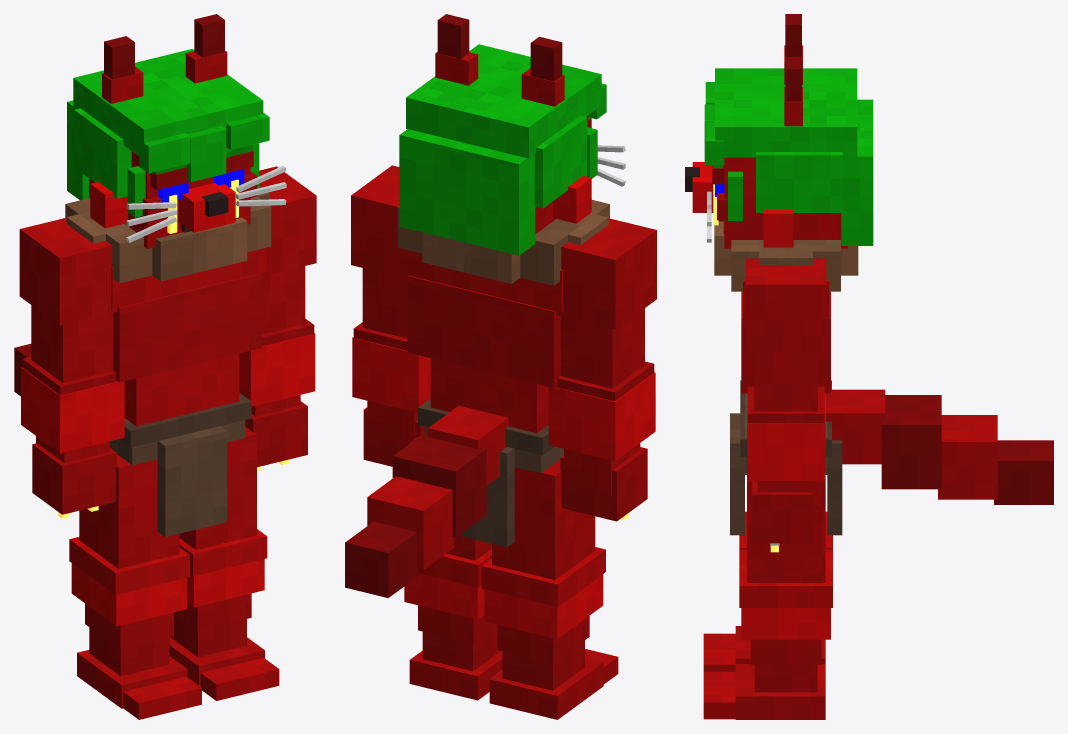
Rendered from beastfolk_s1_evo2.glb.
The picture shows the model from 3 angles, left to right: view 1: azimuth 30°, elevation 25°; view 2: azimuth 150°, elevation 25°; view 3: azimuth 270°, elevation 25°; orthographic projection. The views are drawn at different scales.
Visible parts, largest first — view 1: Torso, Head, ArmR, LegR, LegL, ArmL; view 2: Torso, Head, ArmR, LegR, ArmL, LegL; view 3: Head, Torso, ArmL, LegL, LegR.
Boxes of the visible parts, left/top/right/bottom form: Torso: left=14, top=186, right=271, bottom=537; Head: left=67, top=14, right=286, bottom=248; ArmR: left=19, top=217, right=124, bottom=518; LegR: left=69, top=454, right=201, bottom=719; LegL: left=169, top=427, right=279, bottom=700; ArmL: left=239, top=166, right=316, bottom=471; Torso: left=345, top=200, right=609, bottom=597; Head: left=399, top=14, right=625, bottom=255; ArmR: left=548, top=218, right=656, bottom=521; LegR: left=481, top=459, right=618, bottom=719; ArmL: left=351, top=165, right=430, bottom=466; LegL: left=404, top=436, right=502, bottom=700; Head: left=685, top=14, right=873, bottom=248; Torso: left=714, top=221, right=1053, bottom=535; ArmL: left=746, top=258, right=826, bottom=552; LegL: left=703, top=481, right=832, bottom=719; LegR: left=703, top=511, right=832, bottom=671.
Bounding box in the file's own units: 0.797 × 1.89 × 0.985.
27 materials, 27 textured.
